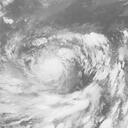cyclone: (30, 55, 68, 86)
